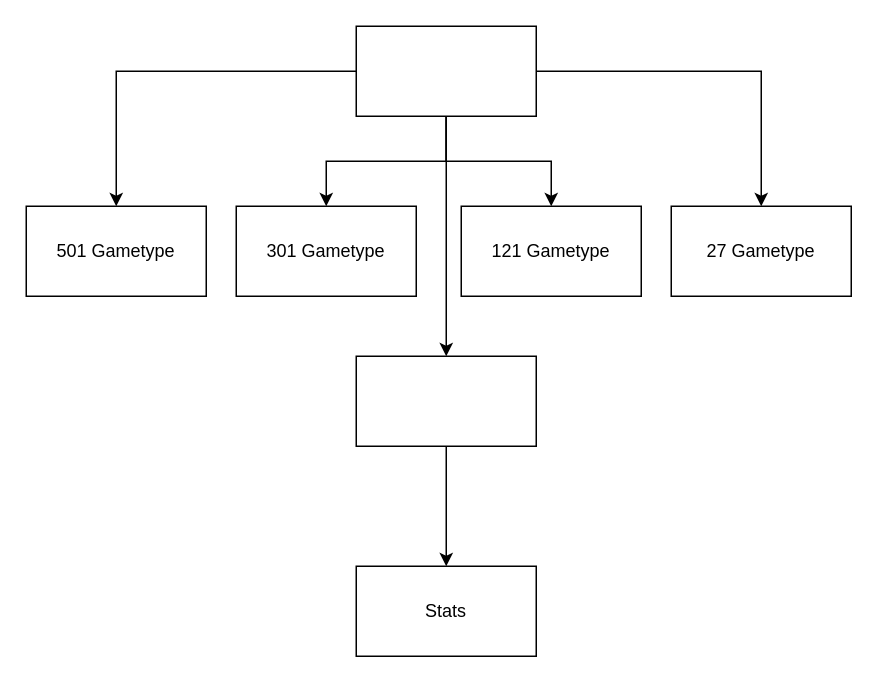
The diagram is 878 pixels wide and 683 high, and some of its shapes have lost their labels. The shapes that lost their labels are listed below. From the top down, each one's box as (x1, y1, x2, y2) in pixels, then its label:
(355, 25, 536, 116): Darts Homepage
(355, 355, 536, 446): Login
